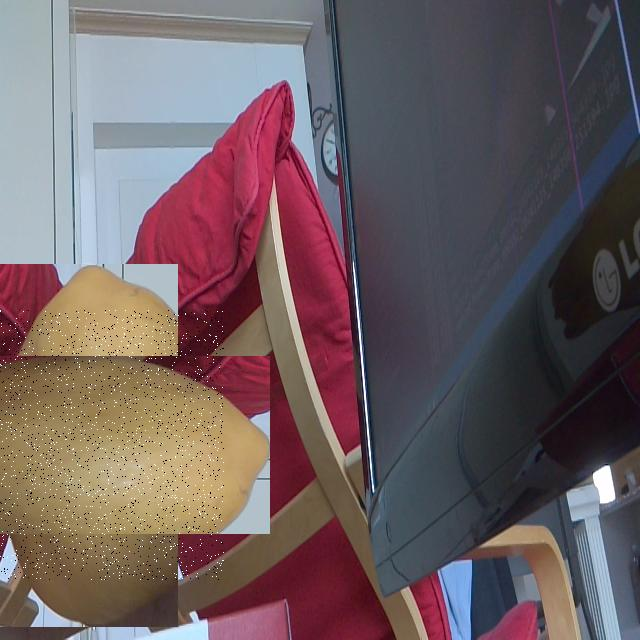pear: (0, 310, 224, 580)
